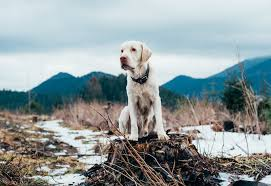dog_sitting: (116, 39, 168, 143)
